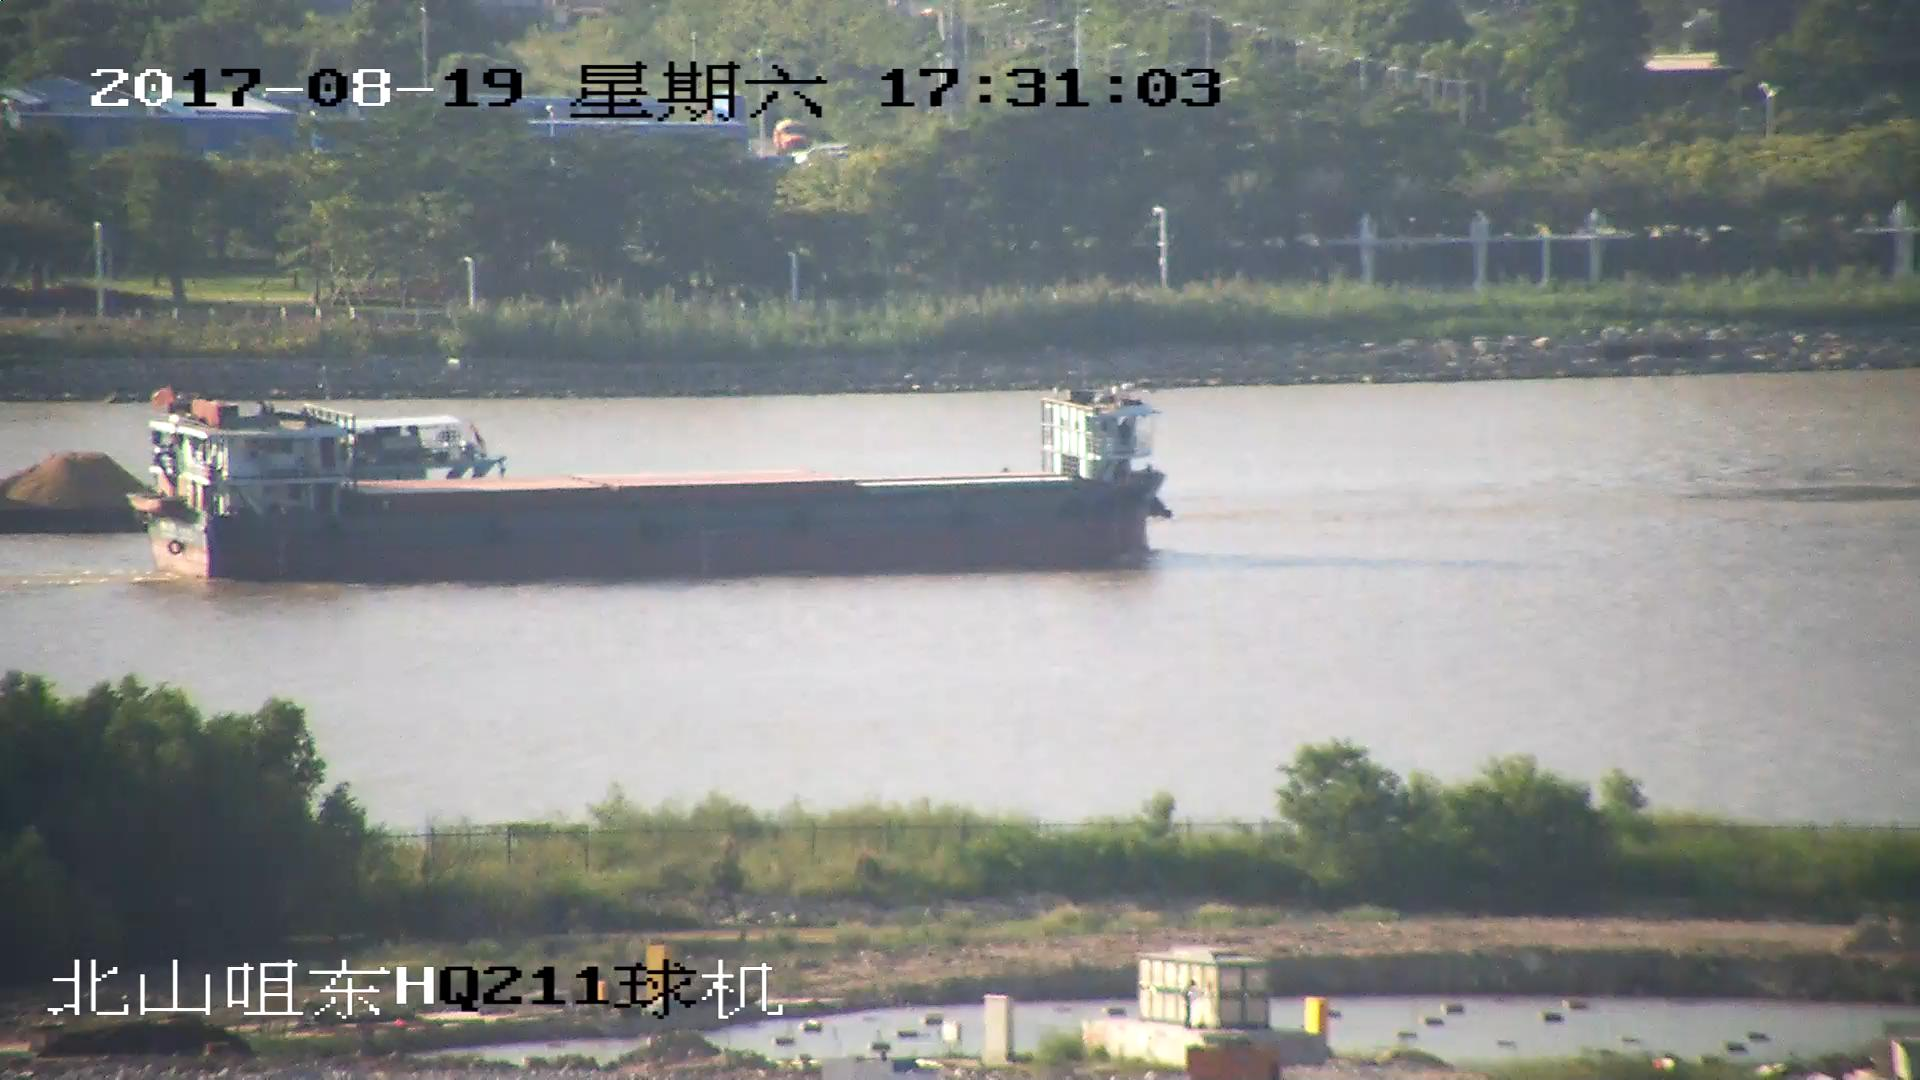general cargo ship: (129, 387, 1162, 584)
ore carrier: (1, 449, 144, 533)
